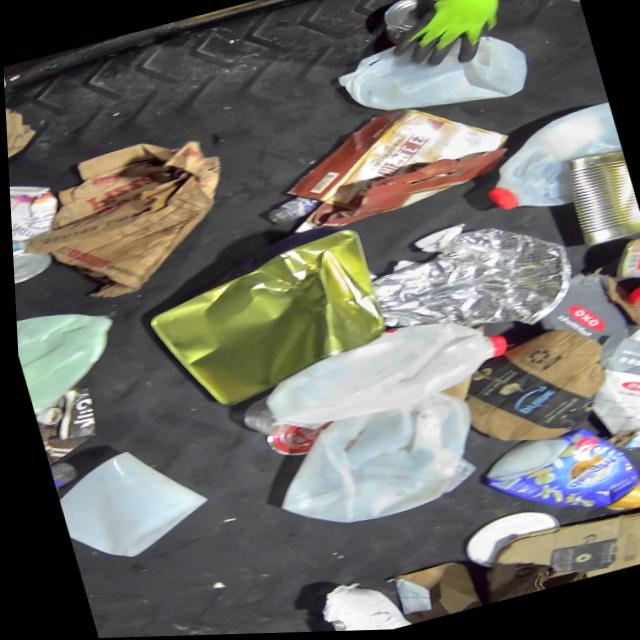can: (556, 149, 640, 250), (373, 0, 449, 46), (9, 232, 51, 286), (603, 238, 640, 295)
milk_jug: (253, 384, 490, 542), (247, 303, 515, 441), (330, 22, 533, 138), (44, 433, 214, 571), (470, 103, 631, 224), (12, 293, 129, 413)
non_white_jug: (467, 409, 640, 546)
plastic_bottle: (631, 282, 640, 376)
